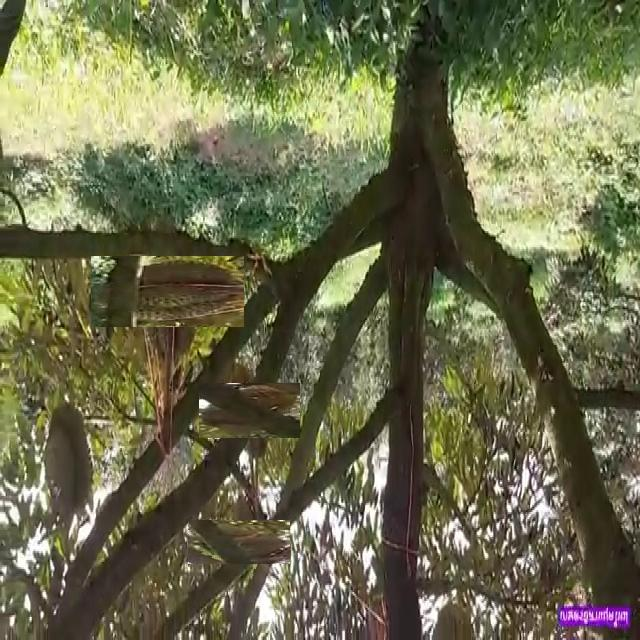durian: (111, 235, 224, 347), (41, 399, 95, 520), (211, 371, 289, 450), (203, 505, 276, 579)
